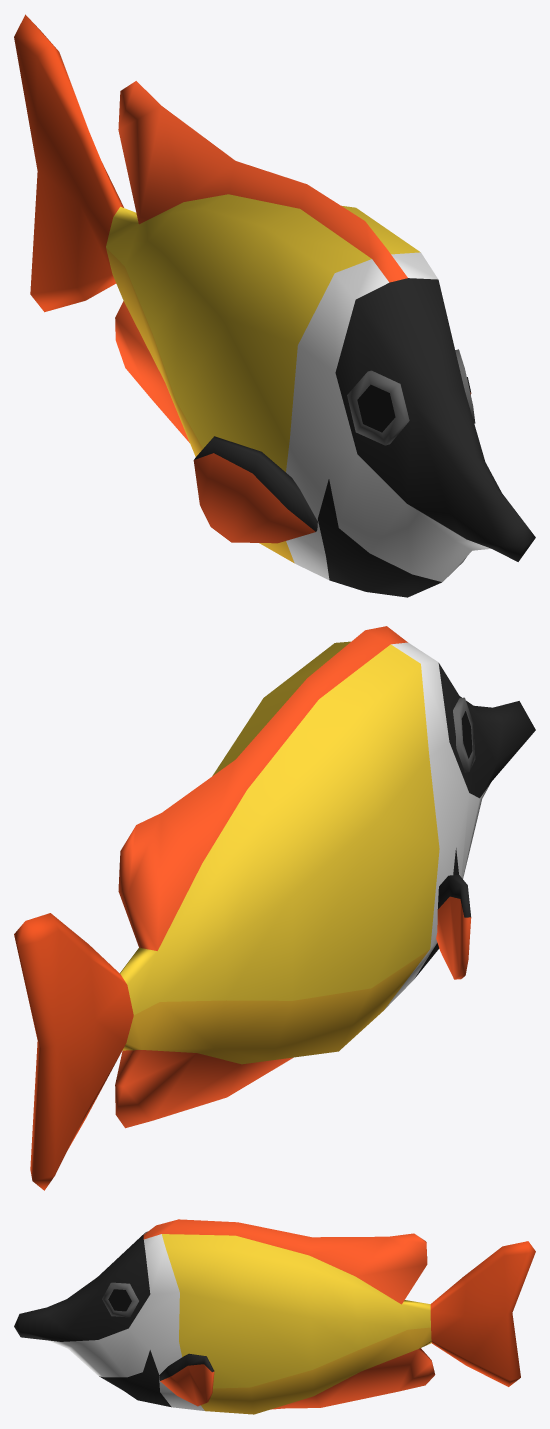
The model's file is BigNoseFish.fbx.
3 renders of one model, top to bottom at view 1: azimuth 30°, elevation 25°; view 2: azimuth 150°, elevation 25°; view 3: azimuth 270°, elevation 25°, orthographic. The views are drawn at different scales.
Parts seen in each view (by area): view 1: Fish_019; view 2: Fish_019; view 3: Fish_019.
Boxes of the visible parts, left/top/right/bottom form: Fish_019: left=14, top=14, right=535, bottom=597; Fish_019: left=14, top=626, right=535, bottom=1190; Fish_019: left=14, top=1219, right=535, bottom=1414.
Size of the model in its own units: 20.45 by 25.85 by 64.68.
